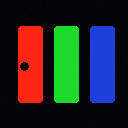0 point: (20, 62, 28, 70)
